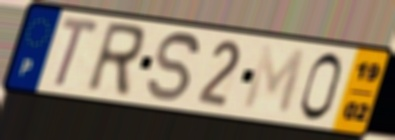0: (297, 51, 345, 122)
2: (194, 38, 244, 110)
M: (239, 43, 309, 118)
R: (82, 20, 149, 100)
S: (146, 29, 203, 105)
T: (50, 14, 103, 91)
